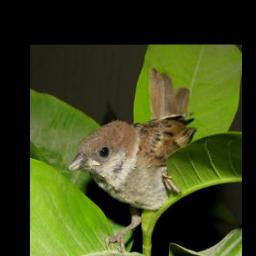Sparrow: (65, 66, 199, 254)
